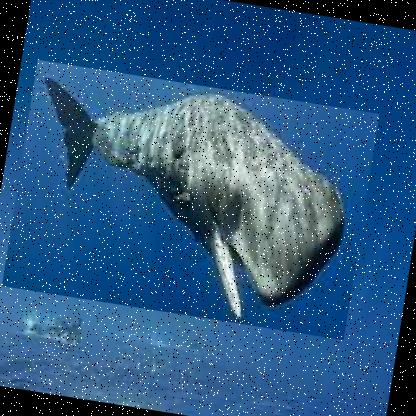sperm_whale: (0, 58, 379, 340)
